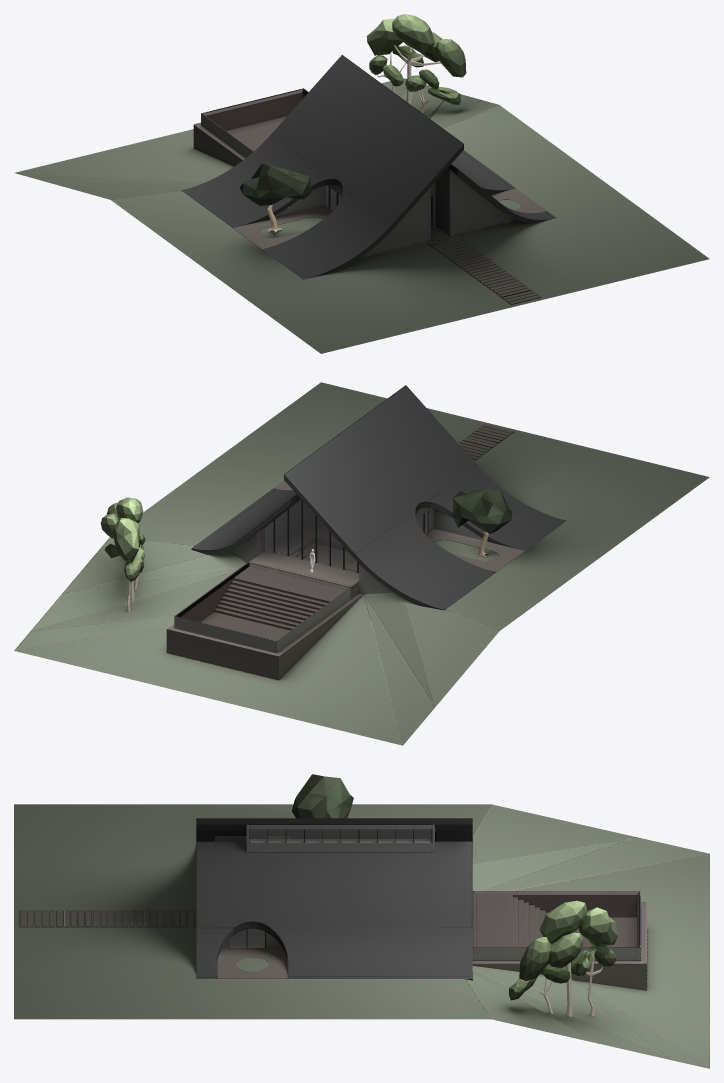
File: cabana-tusa.glb
3 renders of one model, top to bottom at view 1: azimuth 30°, elevation 25°; view 2: azimuth 150°, elevation 25°; view 3: azimuth 270°, elevation 25°, orthographic. The views are drawn at different scales.
Parts seen in each view (by area): view 1: C-TOPO, A-ROOF, A-FLOR, I-WALL, 3DGeom-1, 3DGeom-4; view 2: C-TOPO, A-ROOF, A-FLOR, I-WALL, A-GLAZ-CURT, 3DGeom-1, 3DGeom-4, A-GLAZ-CWMG; view 3: C-TOPO, A-ROOF, A-FLOR, 3DGeom-1, I-WALL, A-GLAZ-CURT, 3DGeom-4.
Part boxes in pixels (x1,y1,x2,y2): C-TOPO: [15, 78, 709, 353]; A-ROOF: [181, 55, 555, 279]; A-FLOR: [193, 88, 546, 303]; I-WALL: [201, 88, 516, 257]; 3DGeom-1: [366, 14, 466, 113]; 3DGeom-4: [239, 163, 311, 232]; C-TOPO: [14, 382, 709, 745]; A-ROOF: [191, 385, 566, 610]; A-FLOR: [166, 424, 524, 680]; I-WALL: [174, 498, 488, 653]; A-GLAZ-CURT: [265, 499, 427, 572]; 3DGeom-1: [100, 497, 145, 612]; 3DGeom-4: [452, 489, 512, 556]; A-GLAZ-CWMG: [273, 500, 424, 573]; C-TOPO: [14, 804, 709, 1068]; A-ROOF: [196, 818, 472, 980]; A-FLOR: [20, 839, 646, 990]; 3DGeom-1: [509, 900, 617, 1016]; I-WALL: [214, 824, 640, 960]; A-GLAZ-CURT: [229, 829, 431, 947]; 3DGeom-4: [292, 774, 353, 818].
Size of the model in its own units: 27.9 by 9.62 by 38.15.
Materials: 12 (7 with a texture image).
